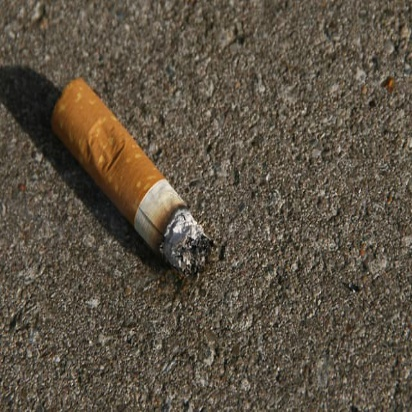cigarette: (46, 76, 215, 291)
